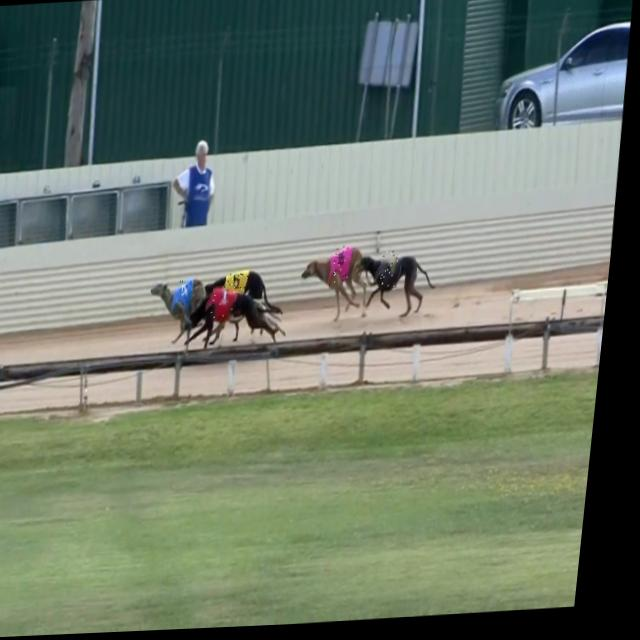dog_eight: (338, 249, 357, 285)
dog_five: (230, 273, 254, 301)
dog_four: (179, 282, 200, 315)
dog_one: (217, 287, 243, 322)
dog_seven: (384, 254, 406, 292)
